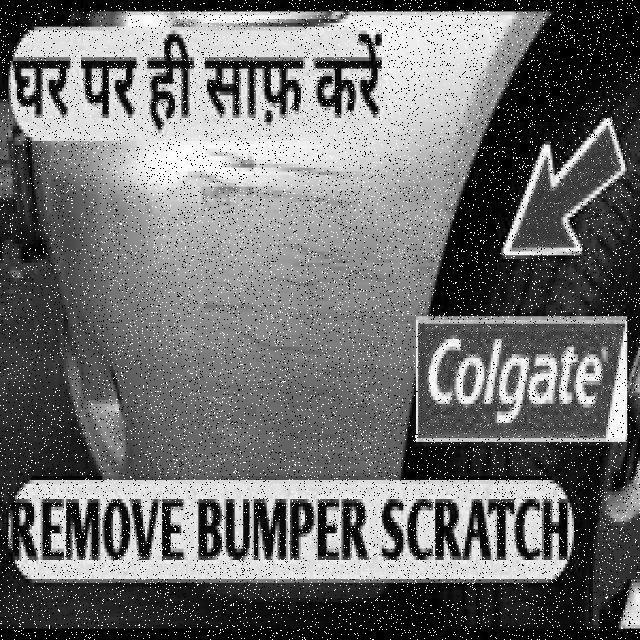front-bumper-dent: (3, 19, 538, 533)
